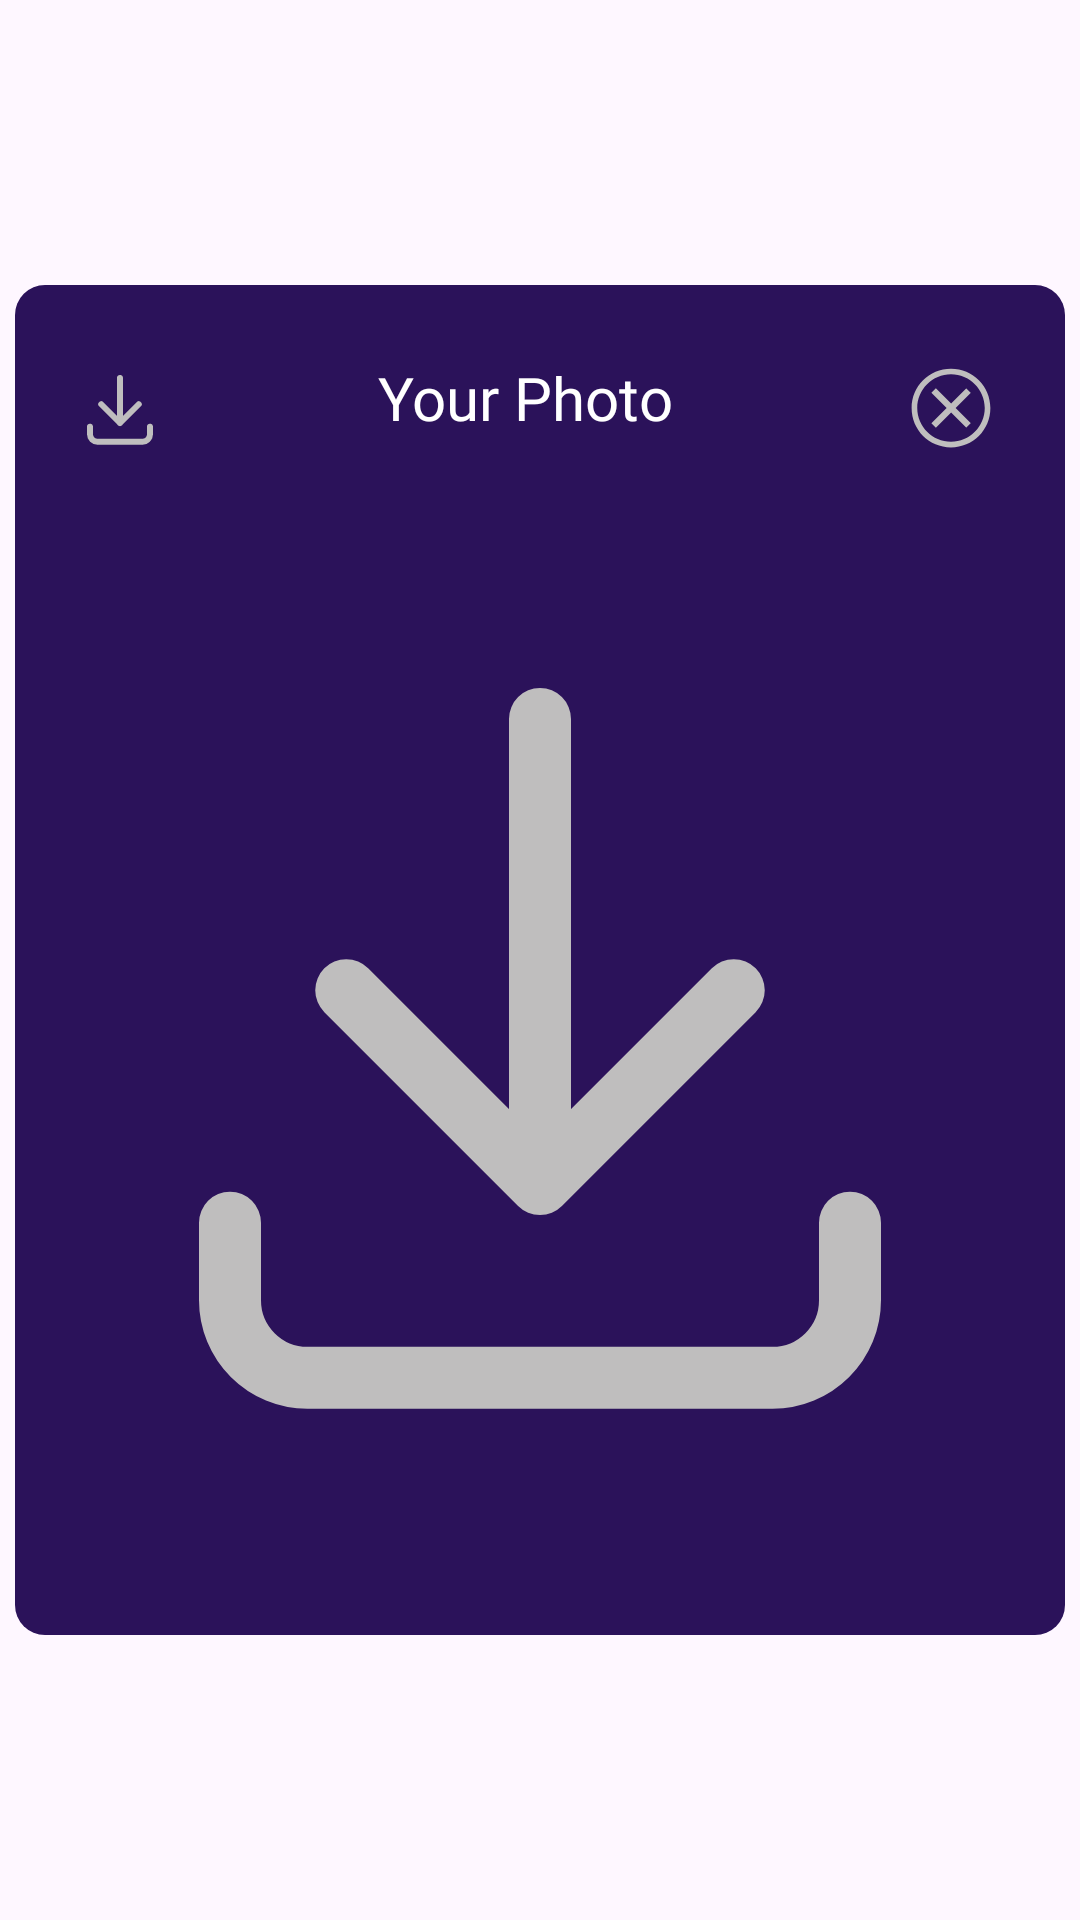

Locate icon controls on the screen. Image size 1080 × 1920, boxes as (x1, y1, x2, y2).
carbon close: (911, 368, 991, 448)
